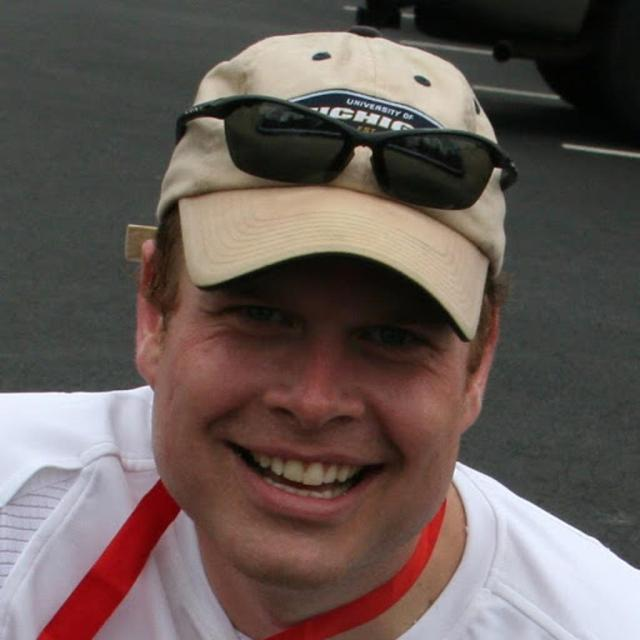Face: (171, 238, 464, 588)
